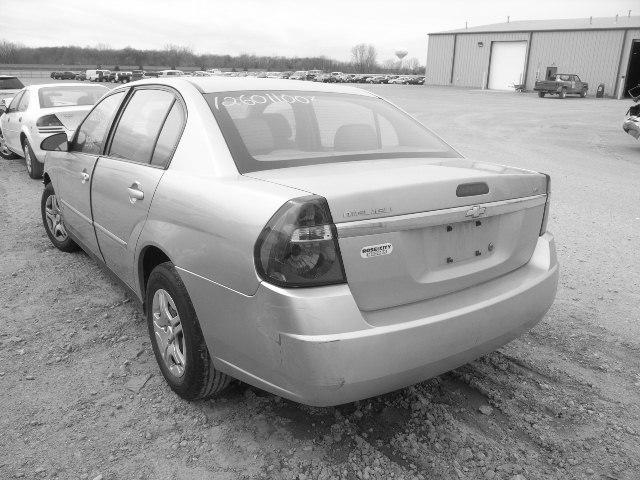car: (39, 79, 561, 410)
